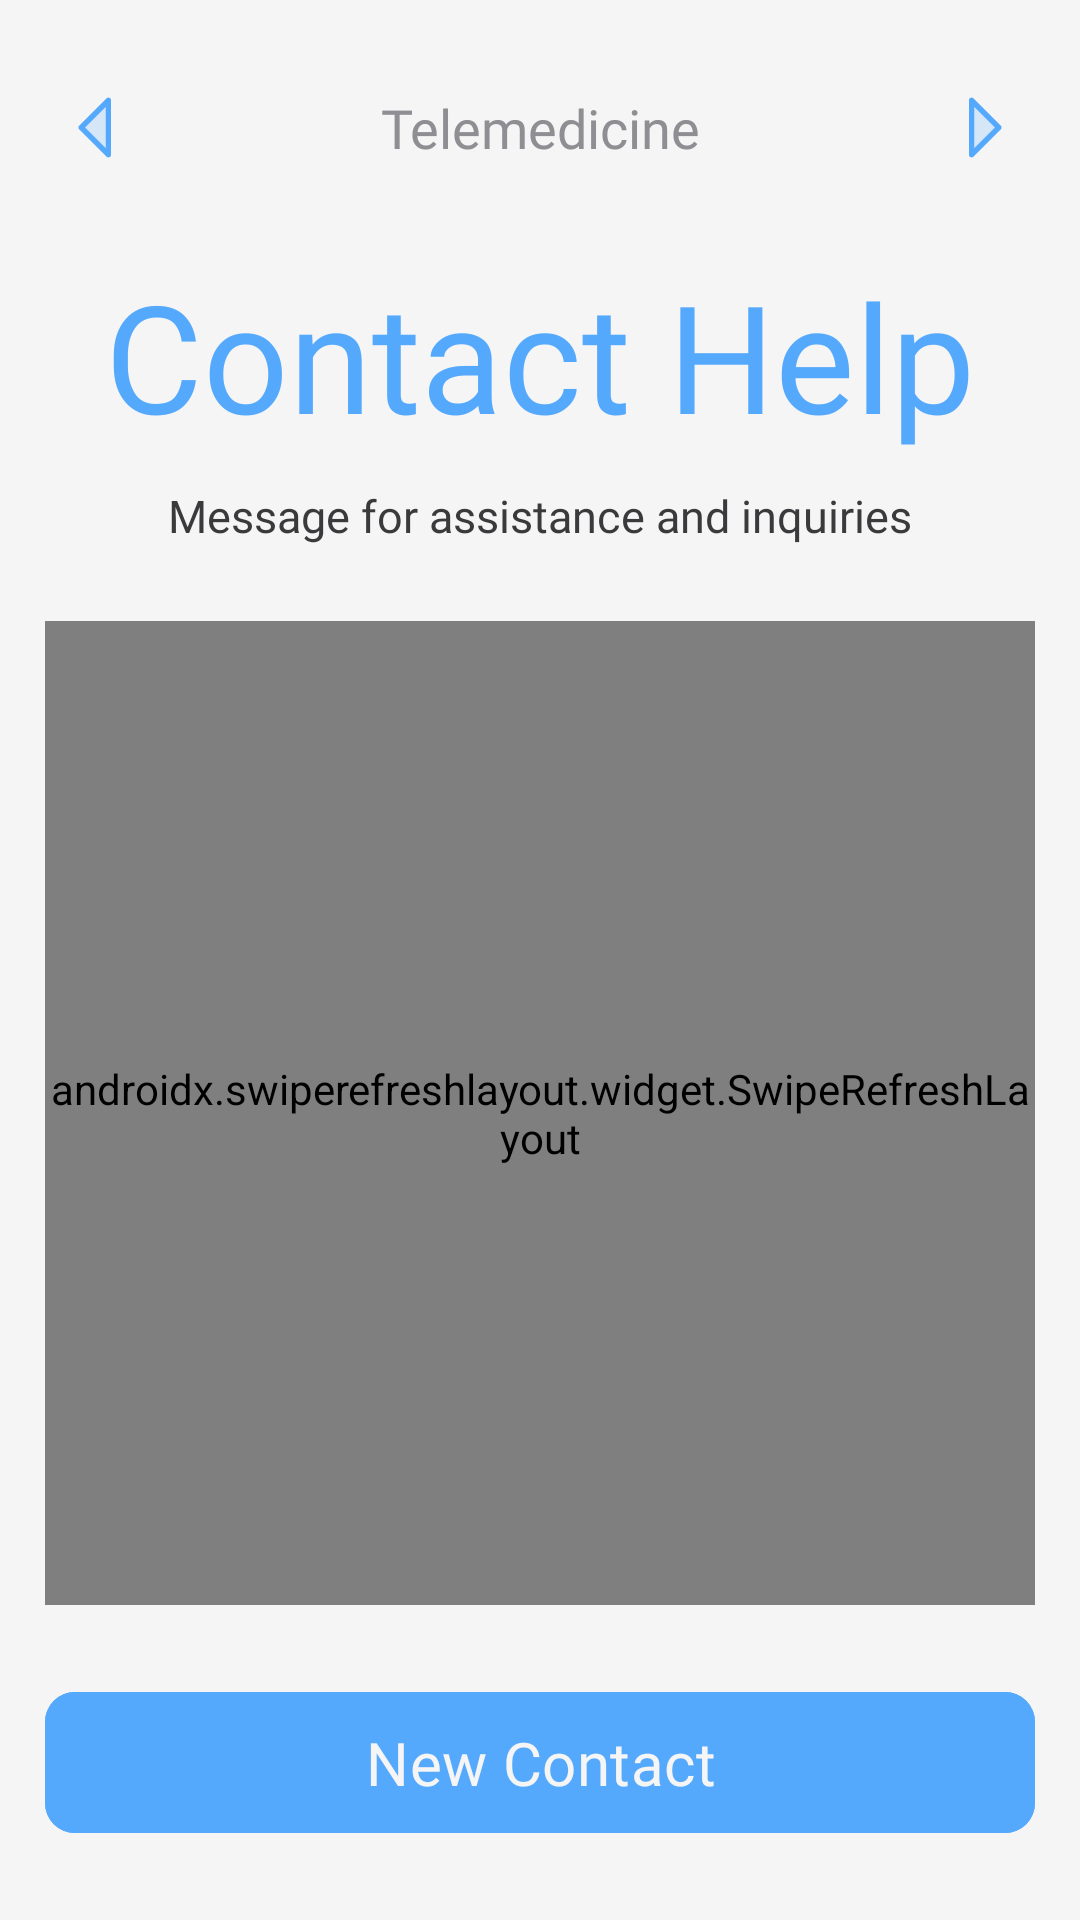

Where to tap for icons on this 1080x1920 app screen, as point (x, y):
arrow left: point (94, 127)
arrow right: point (985, 127)
